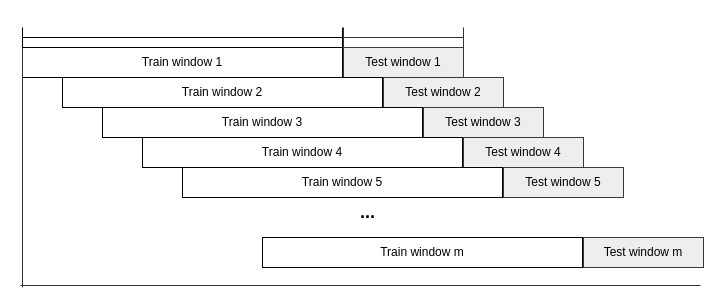
The diagram is 721 pixels wide and 308 high, and some of its shapes have lost their labels. Each missing label, with the centre of its shape:
steps_ahead: point (403, 37)
window_size: point (182, 37)
